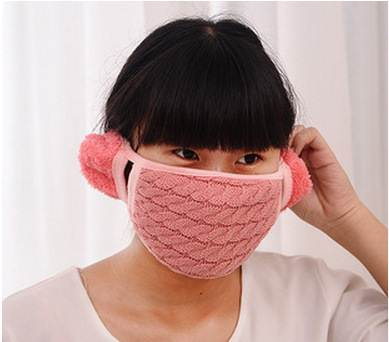face_mask: (128, 92, 286, 270)
